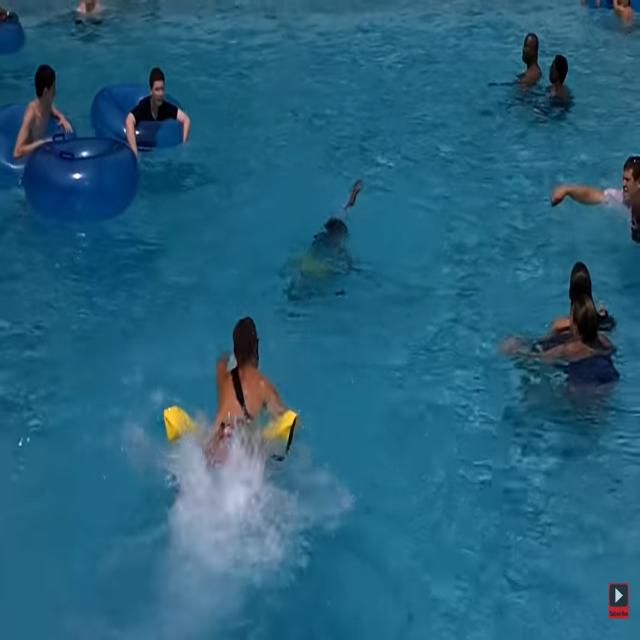Drowning: (275, 176, 381, 309)
Swimming: (165, 315, 298, 480), (549, 151, 640, 249), (123, 62, 193, 158), (14, 62, 71, 158)
